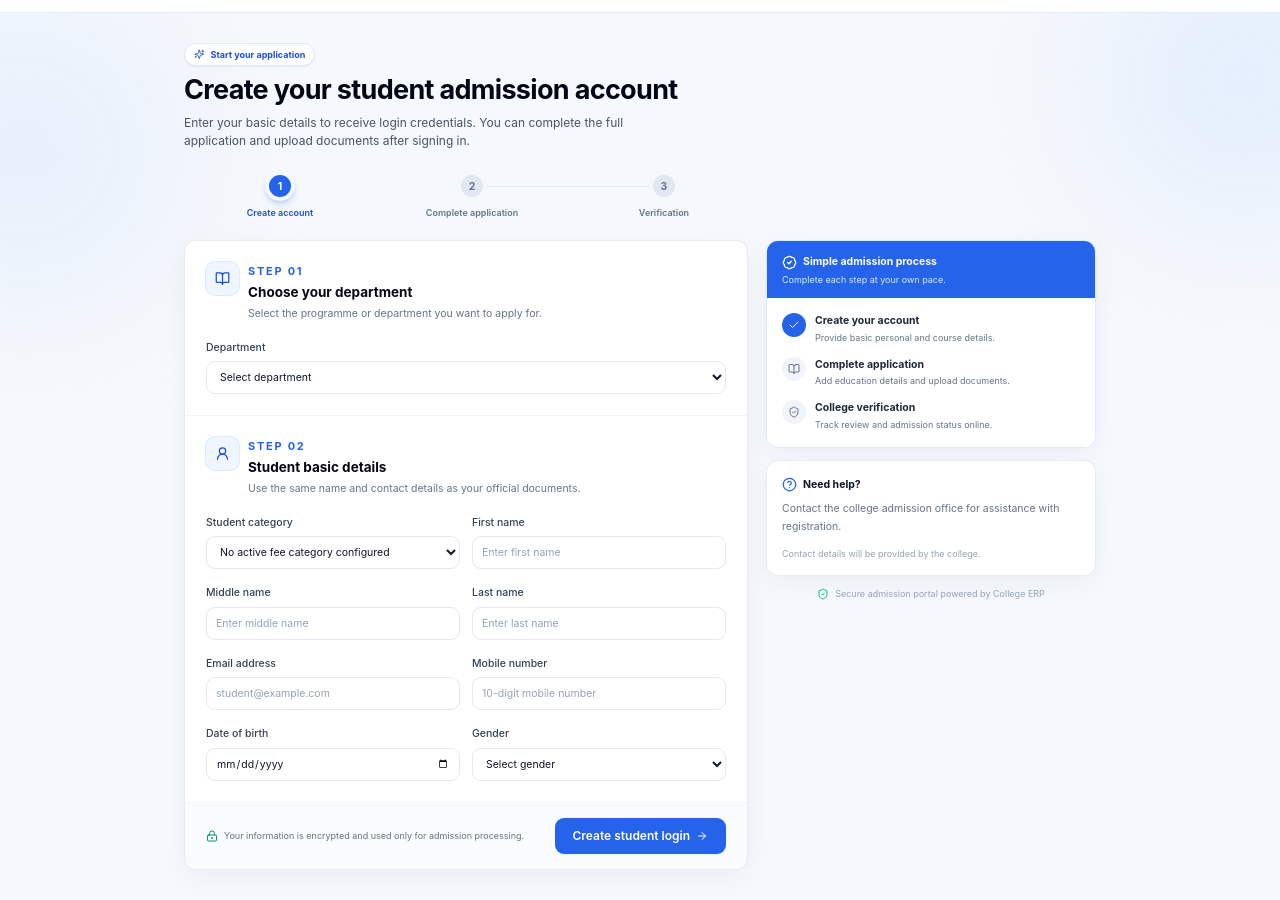
Test: PublicAdmissionPage › shows missing information beside each required field
(page scrolled)
Step 1. Click the button "Create student login" → click(640, 836), box [554,818,726,854]
(page scrolled)
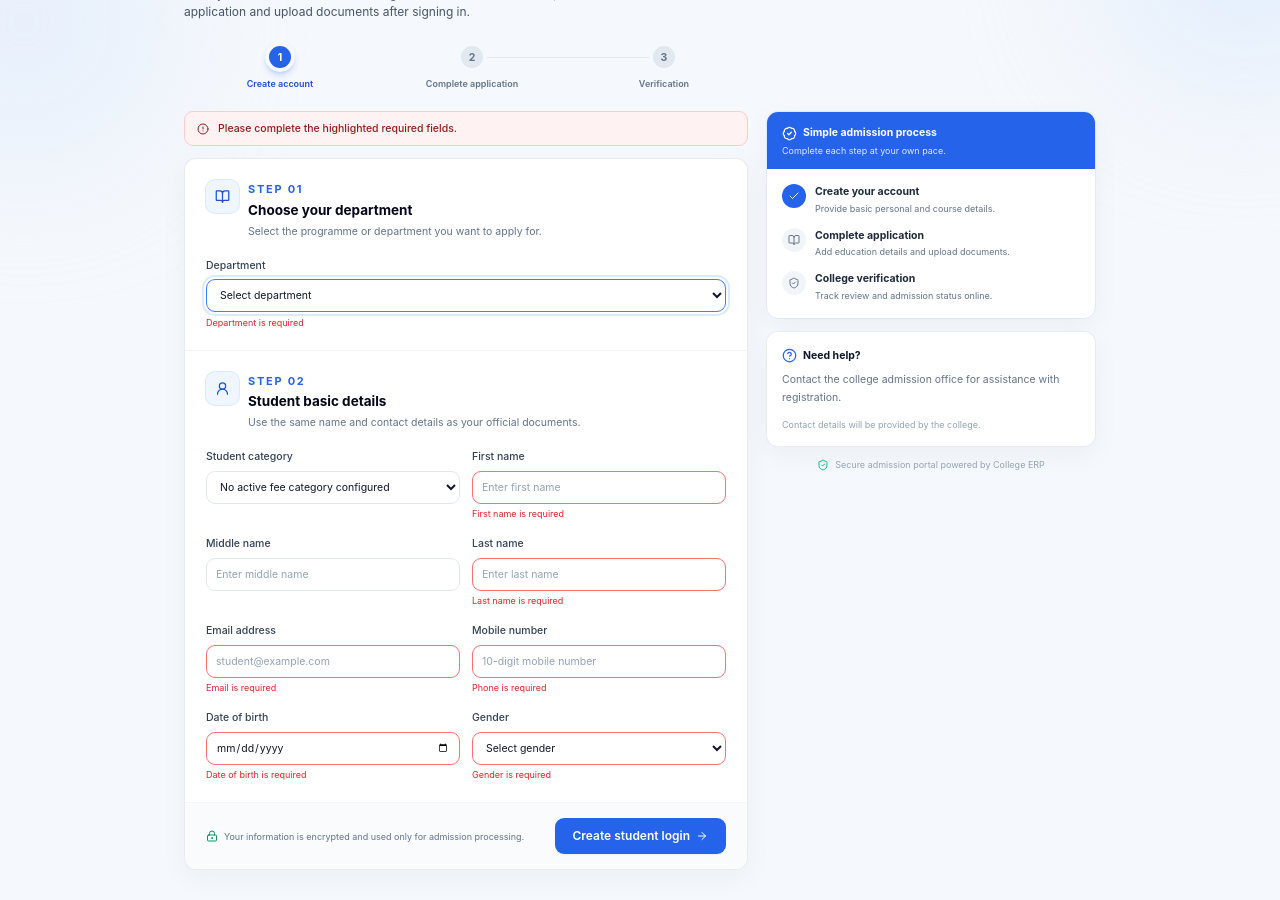
Now the text "Department is required" is shown, box [206,316,304,328]
Now the text "First name is required" is shown, box [472,508,564,519]
Now the text "Last name is required" is shown, box [472,595,563,606]
